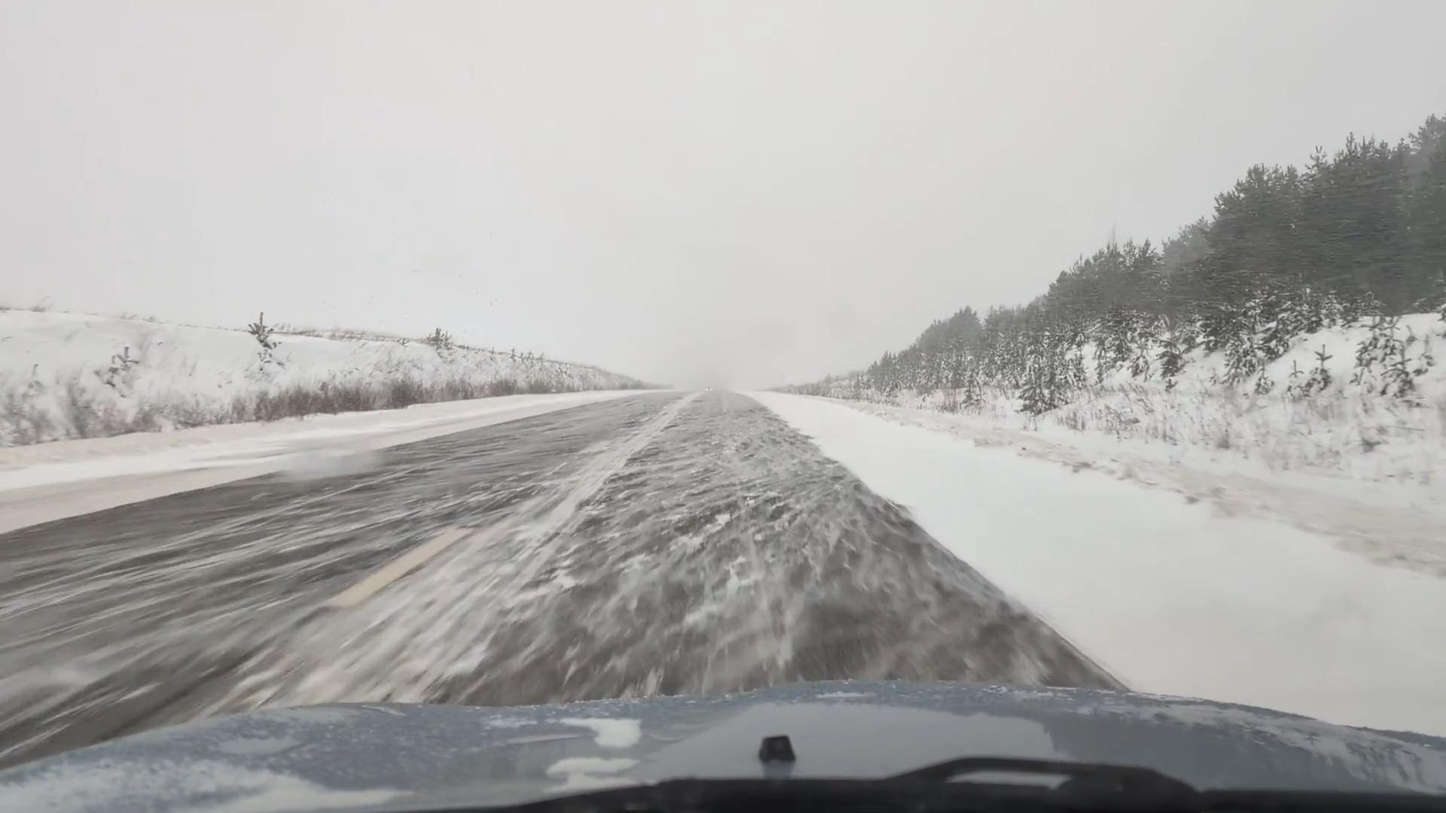Snow: (0, 386, 1138, 764)
